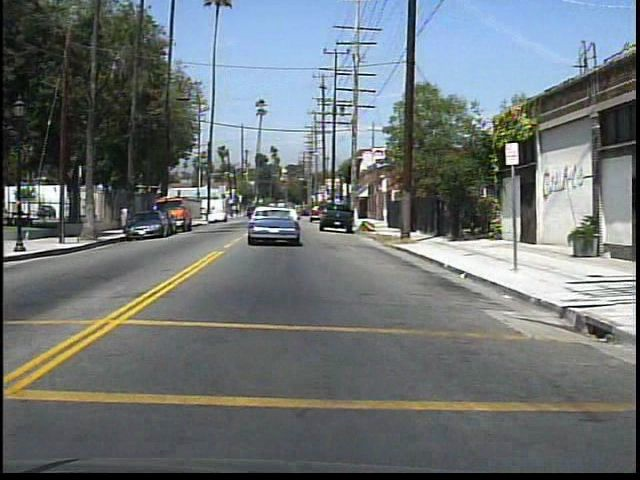person: (33, 198, 49, 223), (82, 197, 96, 225), (121, 201, 130, 231)
